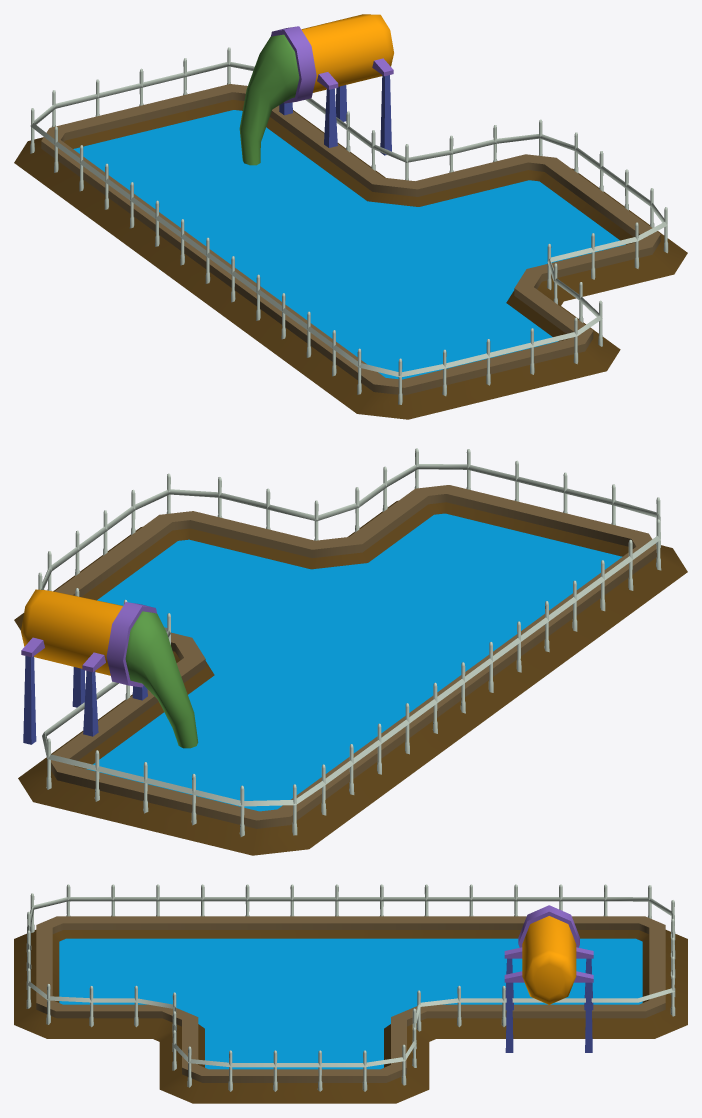
Rendered from Lake.fbx.
3 renders of one model, top to bottom at view 1: azimuth 30°, elevation 25°; view 2: azimuth 150°, elevation 25°; view 3: azimuth 270°, elevation 25°, orthographic. The views are drawn at different scales.
Visible parts, largest first — view 1: Lake; view 2: Lake; view 3: Lake.
Part boxes in pixels (bbox=[...]): Lake: bbox=[14, 14, 687, 419]; Lake: bbox=[14, 448, 687, 855]; Lake: bbox=[14, 884, 687, 1103].
Bounding box in the file's own units: 32.23 × 9.78 × 51.38.
